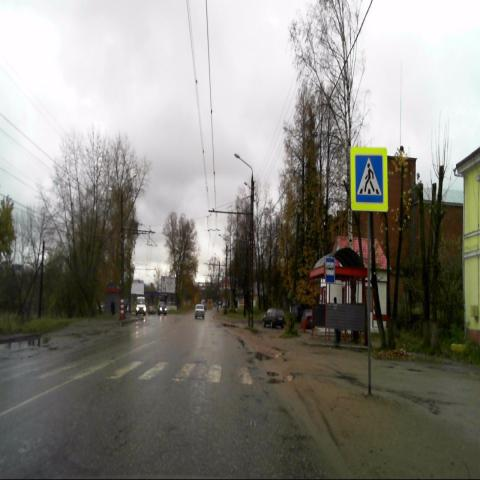5_16: (325, 258, 335, 284)
5_19_1: (350, 145, 389, 213)
